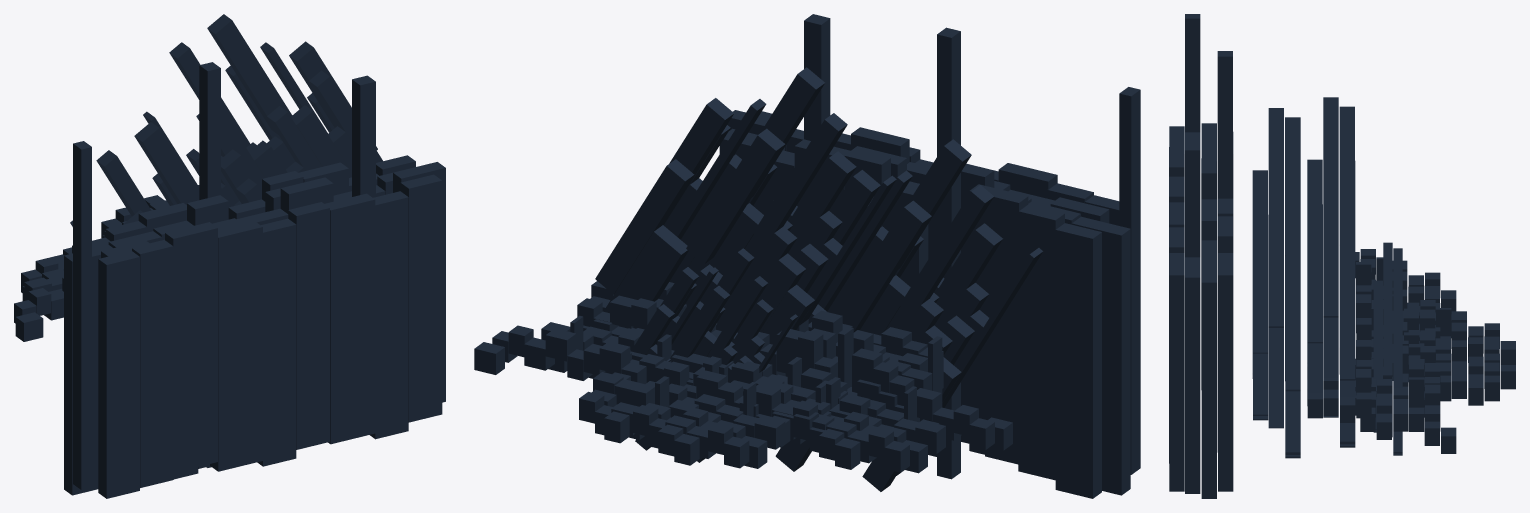
File: AbstractCubes.fbx
The picture shows the model from 3 angles, left to right: view 1: azimuth 30°, elevation 25°; view 2: azimuth 150°, elevation 25°; view 3: azimuth 270°, elevation 25°; orthographic projection. The views are drawn at different scales.
Visible parts, largest first — view 1: AbstractCubes; view 2: AbstractCubes; view 3: AbstractCubes.
Boxes of the visible parts, box(x1,y1,x2,y2) form: AbstractCubes: box(14, 14, 445, 498); AbstractCubes: box(474, 14, 1140, 498); AbstractCubes: box(1169, 14, 1515, 498).
Size of the model in its own units: 19550 by 16385 by 14032.
